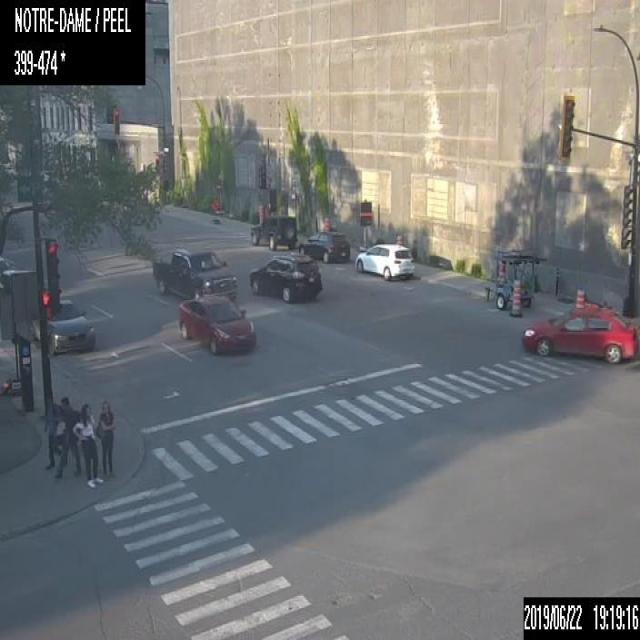construction: (358, 197, 372, 249), (508, 281, 519, 315), (572, 287, 584, 304), (211, 196, 222, 213), (258, 203, 265, 221), (322, 216, 330, 230), (394, 233, 402, 244)
pedestrian: (72, 403, 102, 488), (54, 396, 80, 478), (97, 399, 117, 480), (43, 393, 61, 468)
vehicle: (521, 301, 637, 364), (180, 291, 256, 353), (153, 247, 238, 299), (248, 254, 322, 301), (46, 294, 94, 354), (354, 241, 414, 280), (250, 214, 298, 252), (300, 230, 350, 262)
